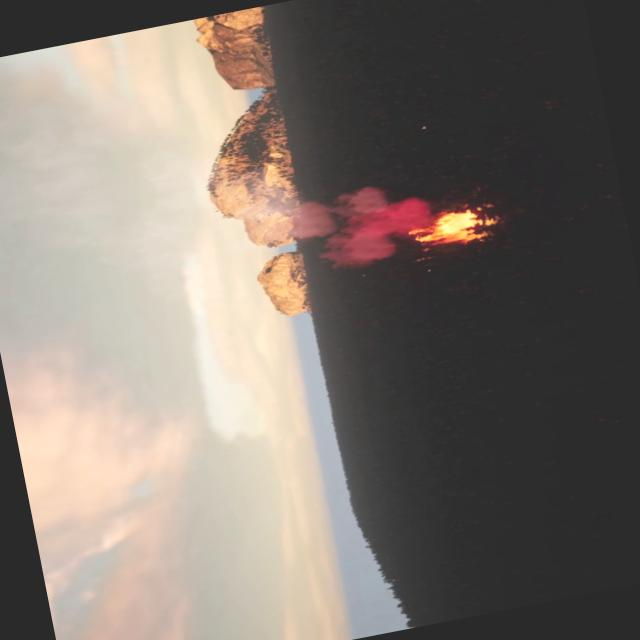fire: (406, 204, 499, 252)
smoke: (258, 176, 434, 282)
